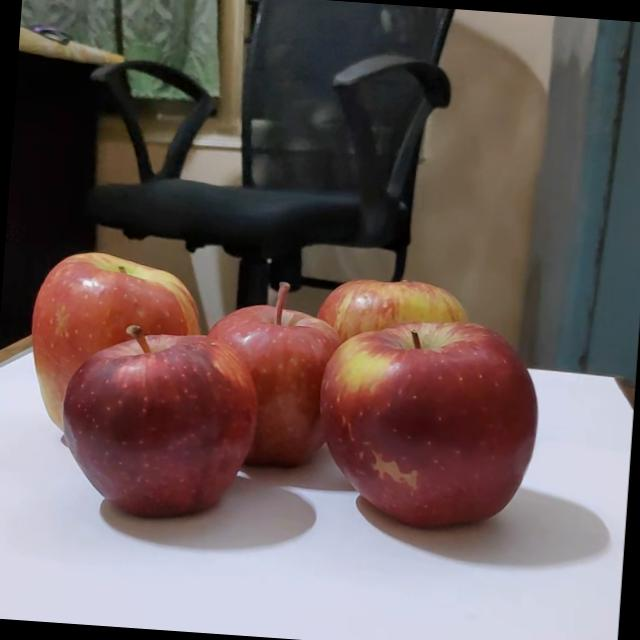apple: (277, 307, 520, 534), (22, 320, 230, 517), (178, 273, 342, 470), (14, 245, 194, 411), (296, 268, 476, 404)
